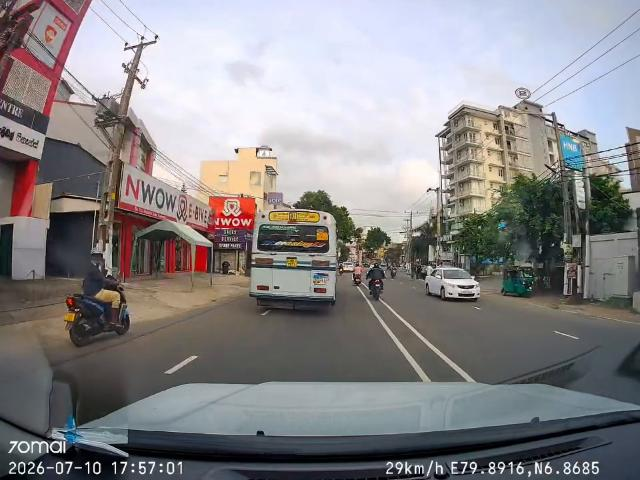illegal overtaking: (365, 256, 389, 303)
